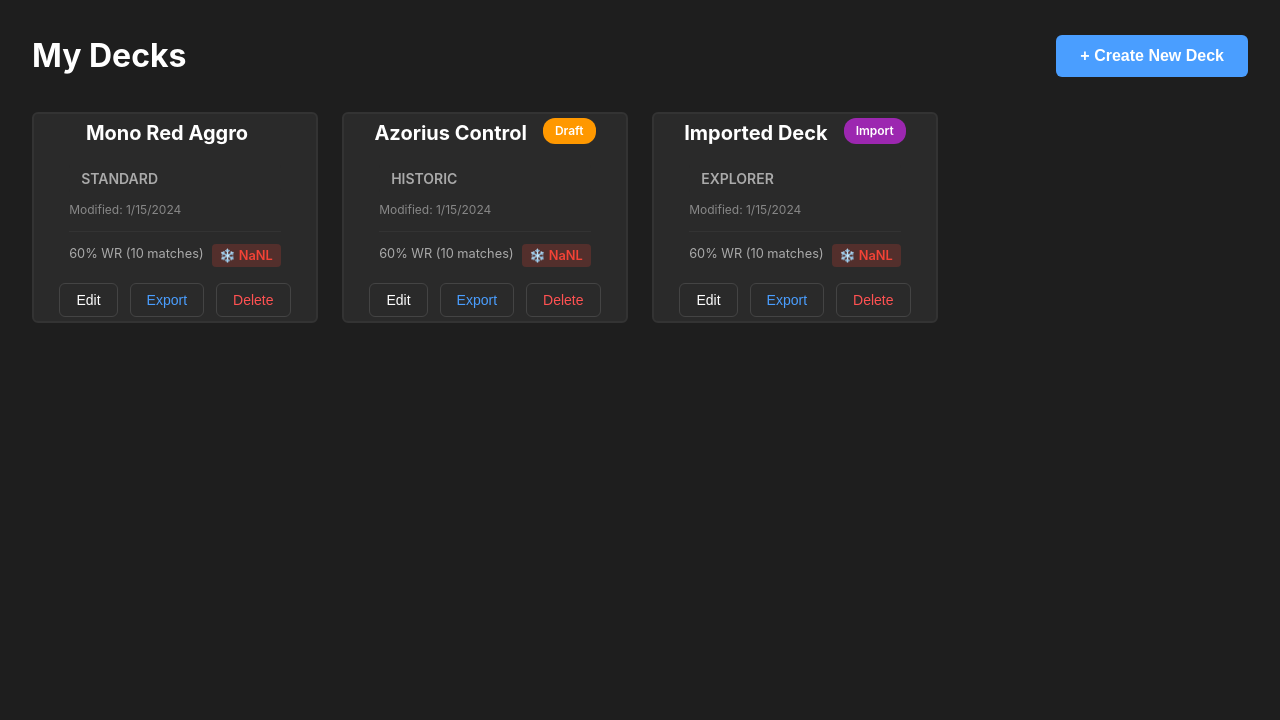
Test: Decks › Delete Deck Dialog › should open delete dialog when clicking delete button
The image size is (1280, 720).
Expected: the heading "Mono Red Aggro" is shown, [86,118,248,148]
Click the button "Delete" below "standard".
click(253, 300)  # box [216,283,291,317]
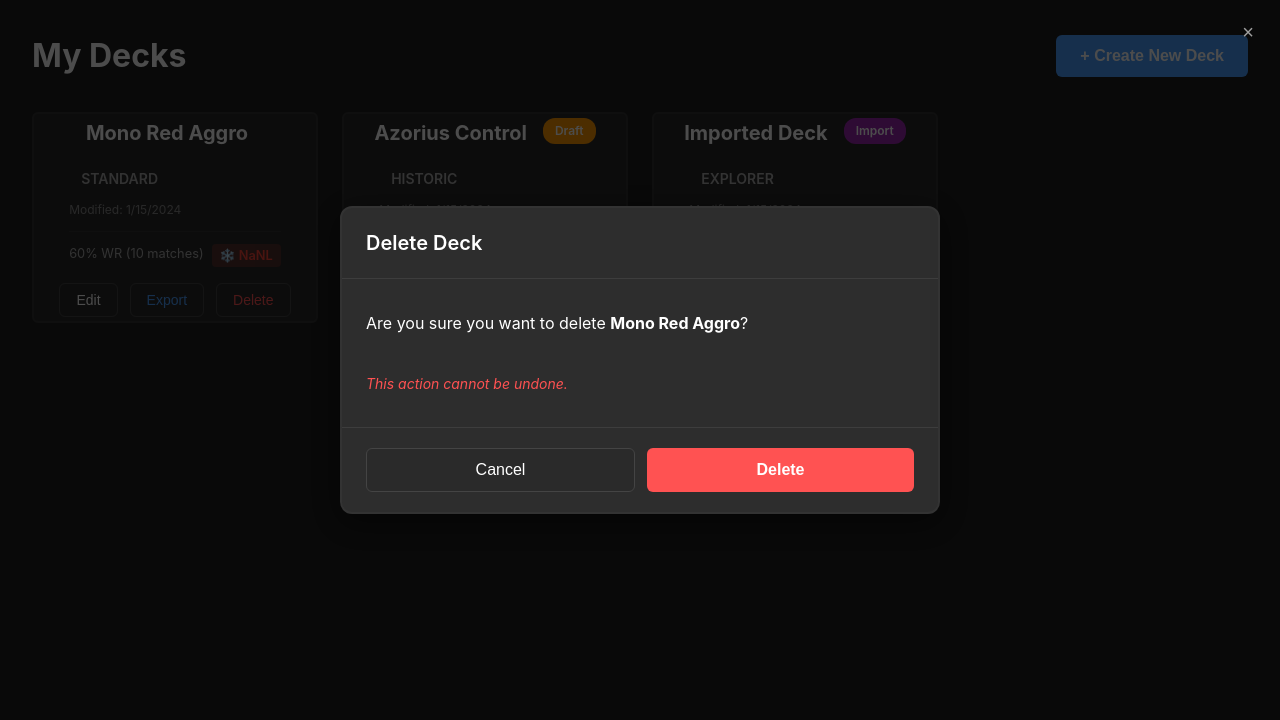
Expected: the heading "Delete Deck" is shown, [366,228,482,258]
Expected: the text "Are you sure you want to delete Mono Red Aggro?" is shown, [366,313,748,333]
Expected: the text "Mono Red Aggro" is shown, [610,313,740,333]
